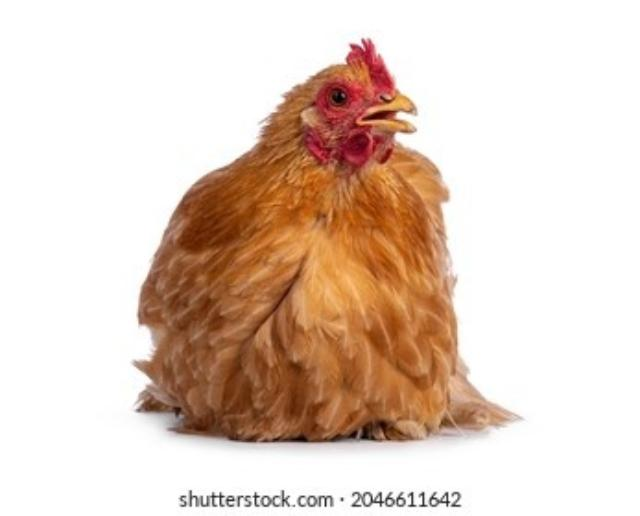Chicken: (132, 38, 523, 442)
